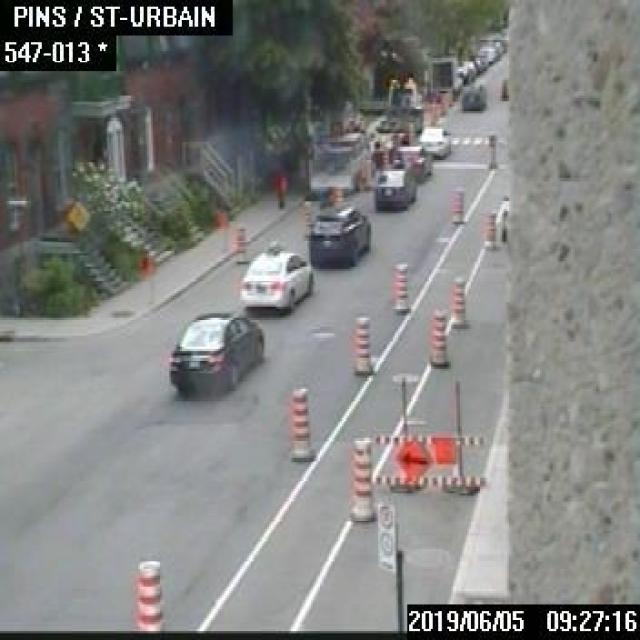construction: (377, 420, 486, 498), (348, 434, 376, 520), (133, 558, 165, 633), (287, 382, 311, 458), (351, 314, 371, 376), (133, 254, 158, 302), (429, 309, 447, 364), (446, 278, 466, 324), (391, 260, 407, 311), (214, 209, 228, 255), (272, 172, 288, 207), (480, 211, 496, 245), (232, 225, 245, 262), (484, 131, 496, 166), (451, 191, 465, 220), (302, 197, 312, 235), (442, 95, 451, 114), (406, 120, 413, 142), (429, 106, 436, 126), (381, 146, 387, 167), (331, 187, 338, 202)
pedestrian: (369, 139, 383, 168)
vehicle: (168, 309, 264, 391), (240, 237, 314, 312), (362, 76, 422, 152), (308, 205, 369, 266), (374, 167, 416, 208), (391, 144, 431, 180), (430, 54, 461, 90), (416, 125, 450, 156), (460, 81, 486, 109), (495, 193, 508, 241), (455, 56, 475, 81), (483, 38, 502, 57), (475, 45, 495, 63), (468, 50, 486, 70), (426, 95, 445, 112)
